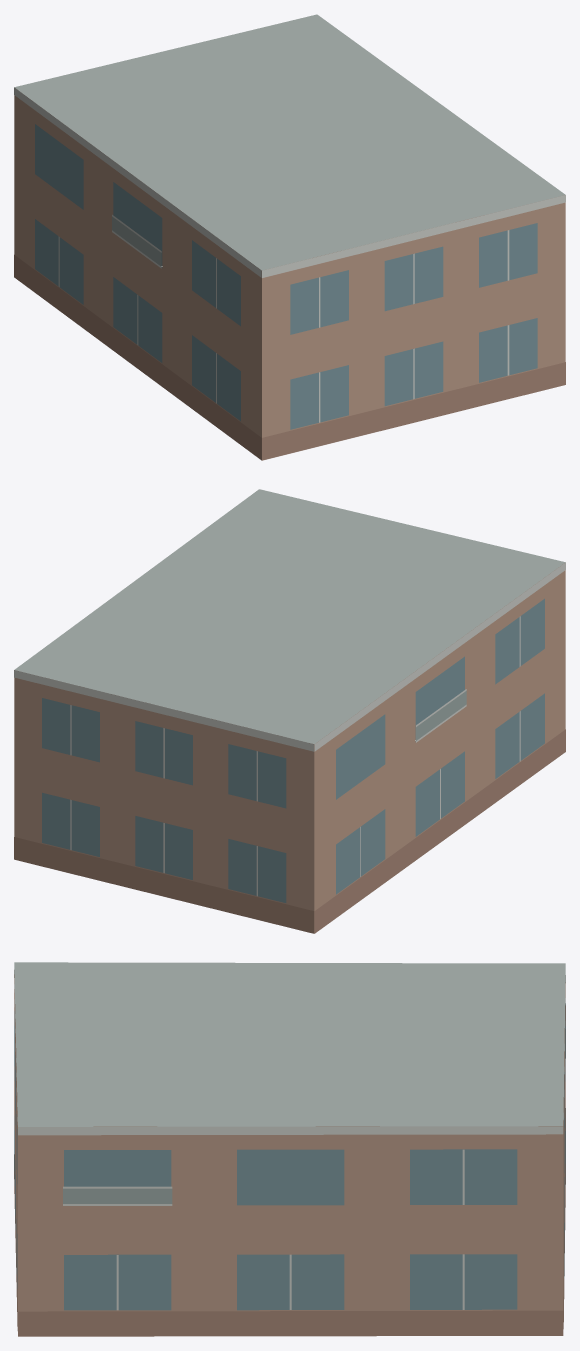
The model's file is survey-upis-33027474.glb.
The picture shows the model from 3 angles, top to bottom: view 1: azimuth 30°, elevation 25°; view 2: azimuth 150°, elevation 25°; view 3: azimuth 270°, elevation 25°; orthographic projection. The views are drawn at different scales.
Visible parts, largest first — view 1: survey-upis-33027474.tmp; view 2: survey-upis-33027474.tmp; view 3: survey-upis-33027474.tmp.
Boxes of the visible parts, x1,y1,x2,y2 form: survey-upis-33027474.tmp: (14, 14, 565, 460); survey-upis-33027474.tmp: (14, 489, 565, 933); survey-upis-33027474.tmp: (14, 962, 565, 1336).
Size of the model in its own units: 10.32 by 6.1 by 14.56.
